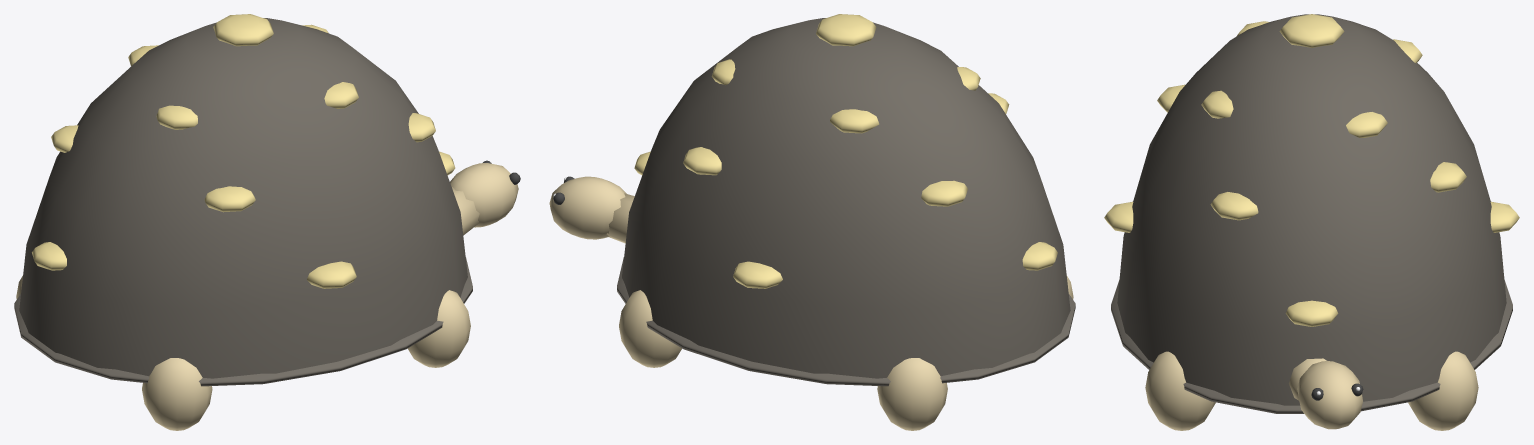
The model's file is indian-star-tortoise.glb.
3 renders of one model, left to right at view 1: azimuth 30°, elevation 25°; view 2: azimuth 150°, elevation 25°; view 3: azimuth 270°, elevation 25°, orthographic. The views are drawn at different scales.
Parts seen in each view (by area): view 1: e, e.018; view 2: e, e.018; view 3: e, e.018.
Part boxes in pixels (x1,y1,x2,y2): e: (14,14,472,430); e.018: (450,160,520,235); e: (617,14,1075,430); e.018: (549,176,634,243); e: (1104,14,1519,430); e.018: (1289,358,1363,429).
Bounding box in the file's own units: 1.45 × 0.93 × 1.02.
